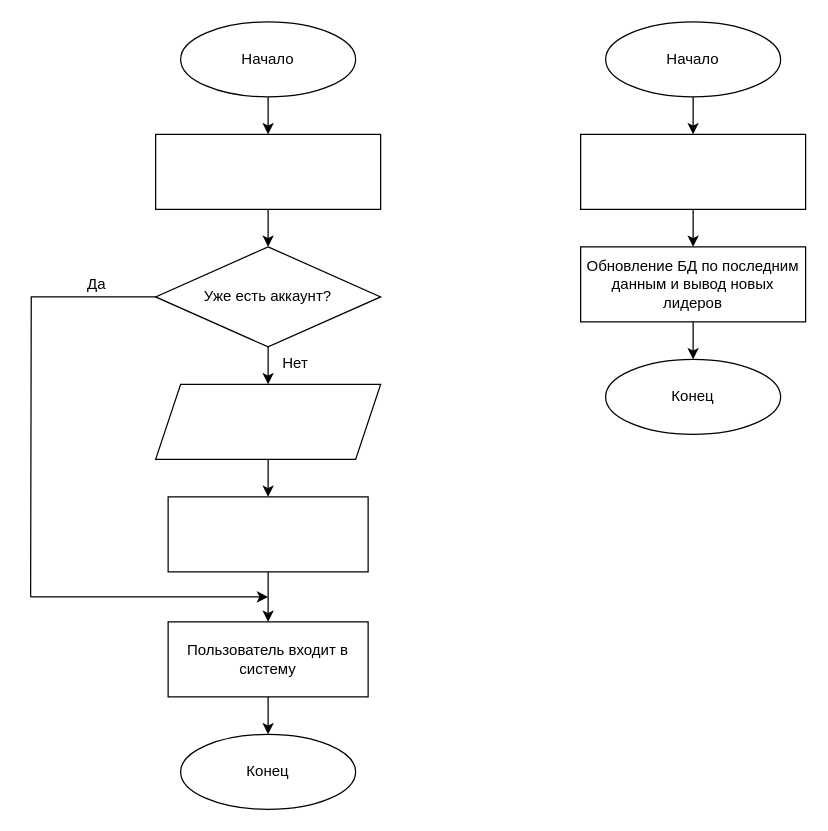
Some shapes in this 828 by 831 pixel diagram are drawn without their labels. Each missing label, with the centre of its shape:
"Ввод данных пользователя" goes at [267,421].
"Запись данных пользователя в БД" goes at [267,534].
"Окно входа/регистрации" goes at [267,171].
"Переход на вкладу с рейтинговыми результатами" goes at [692,171].
